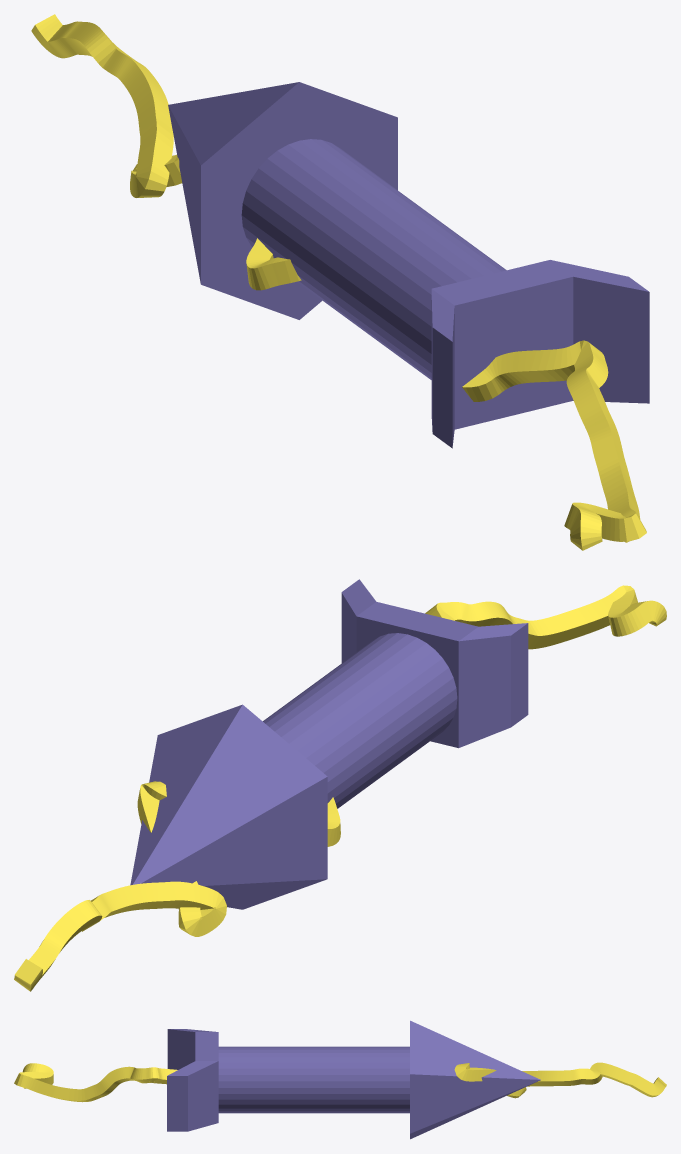
The model's file is arrowLighting.fbx.
3 renders of one model, top to bottom at view 1: azimuth 30°, elevation 25°; view 2: azimuth 150°, elevation 25°; view 3: azimuth 270°, elevation 25°, orthographic. The views are drawn at different scales.
Parts seen in each view (by area): view 1: arrow; view 2: arrow; view 3: arrow.
Part boxes in pixels (x1,y1,x2,y2): arrow: (31, 14, 649, 550); arrow: (14, 579, 666, 991); arrow: (14, 1020, 666, 1139).
Size of the model in its own units: 22.62 by 24.24 by 120.
